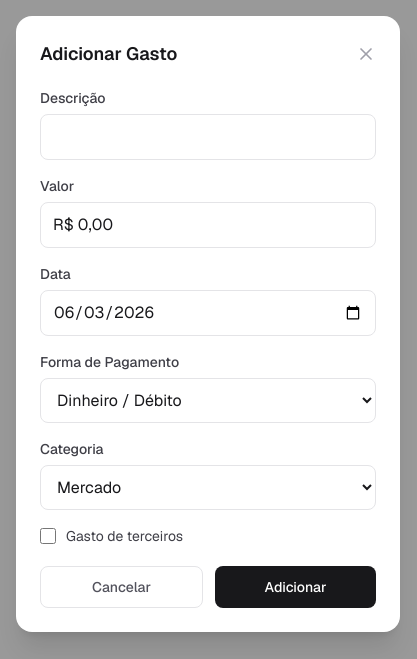
Test: AddTransactionModal › should show loading state while saving
In the field labelled "Descrição": [208, 137] box [40,114,376,160], type "Teste"
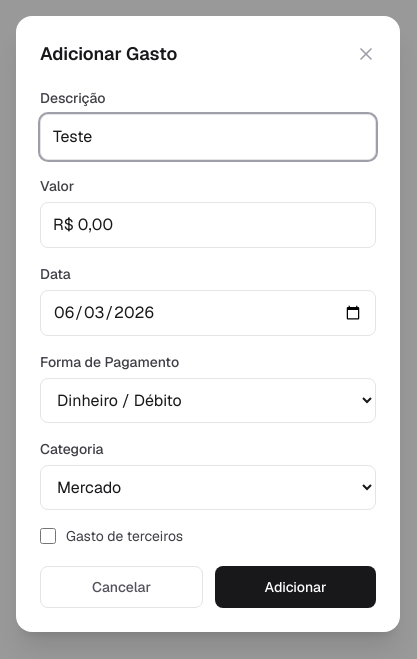
In the field labelled "Valor": [208, 225] box [40,202,376,248], type "5000"
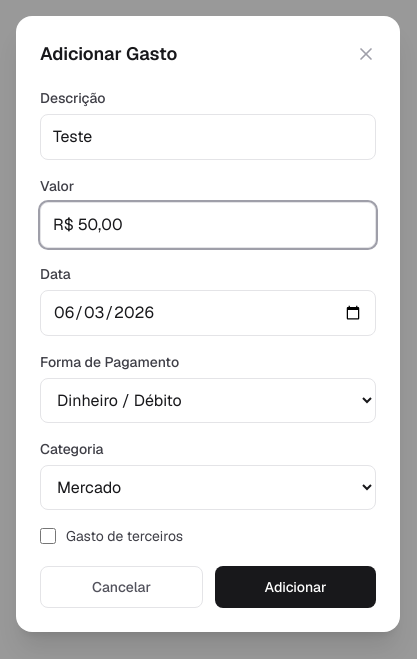
Click the button "Adicionar": [296, 587] box [215,566,376,608]
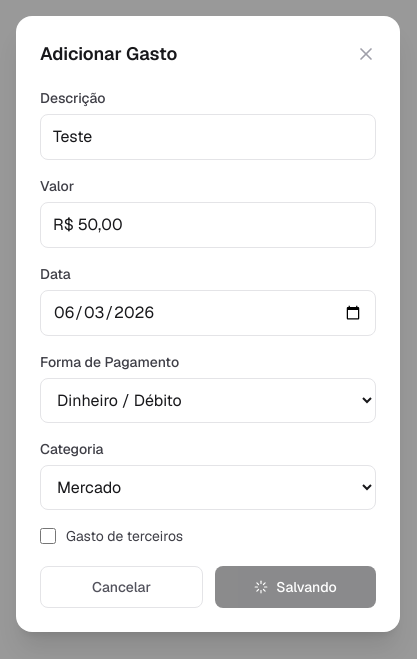
expect the button "Salvando" is disabled: met, box [215,566,376,608]
